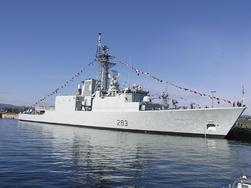warship: (11, 33, 247, 138)
